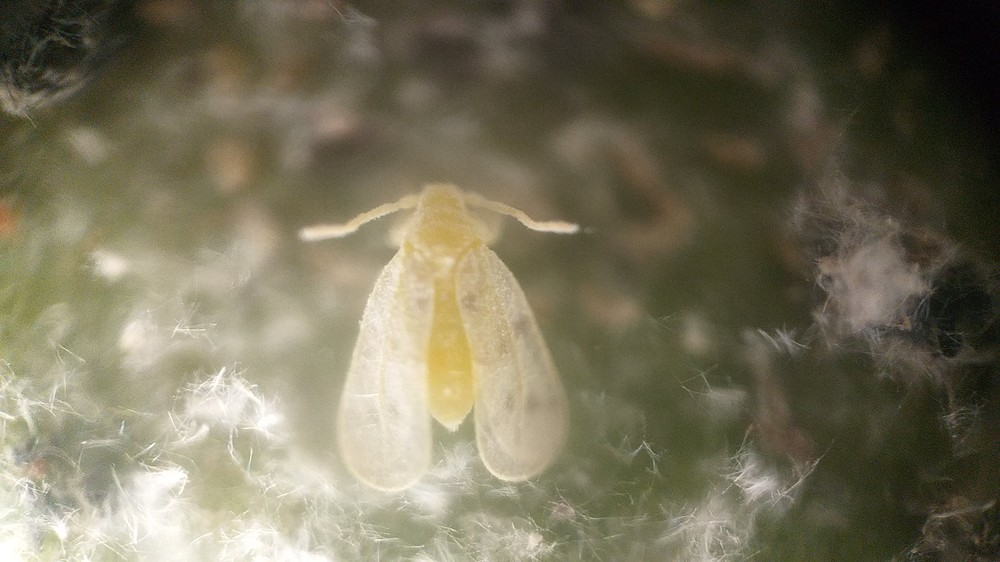Mosca Blanca: (282, 179, 604, 503)
